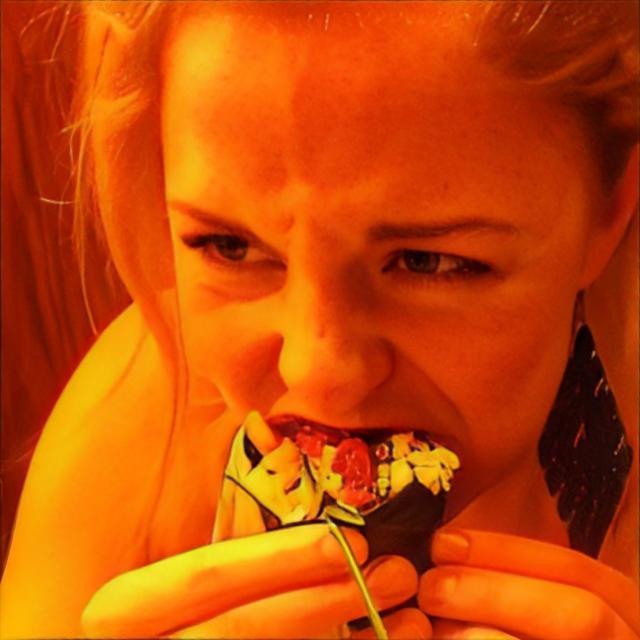anger: (163, 0, 580, 588)
